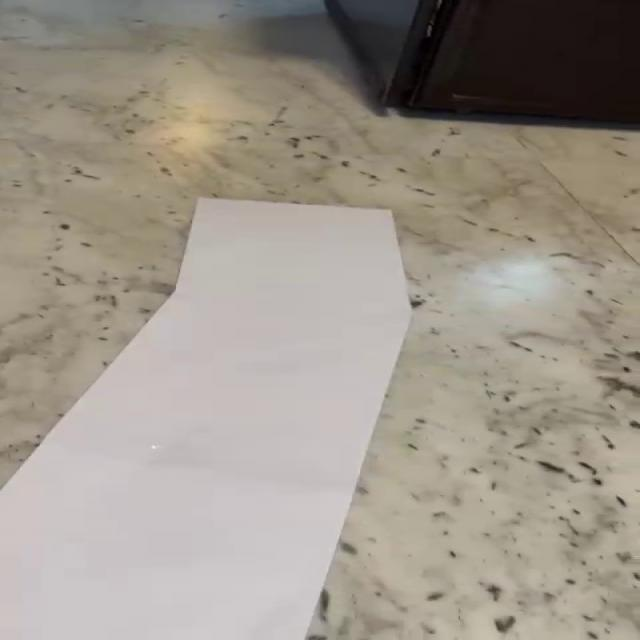road: (2, 198, 411, 640)
